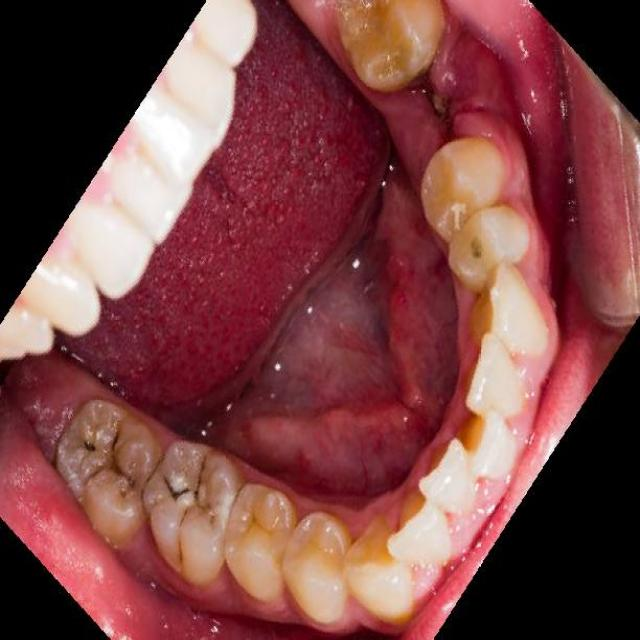caries: (108, 421, 130, 494), (154, 463, 183, 508), (70, 424, 102, 462), (192, 455, 212, 506), (468, 236, 490, 273)
